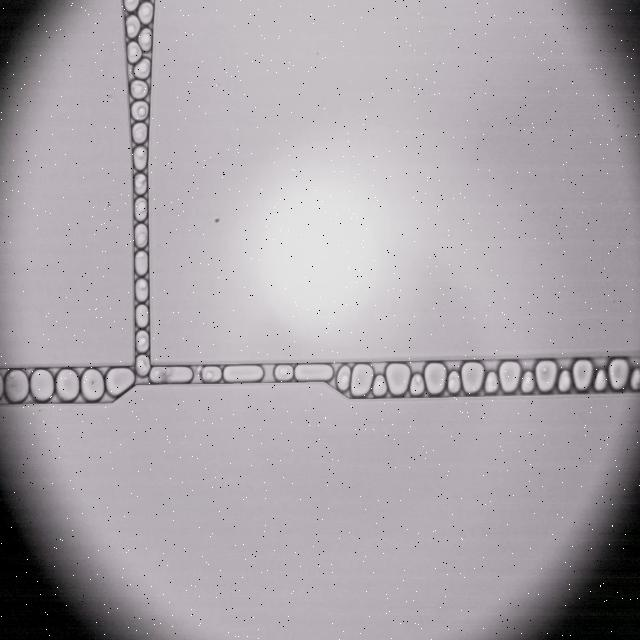L: (336, 366, 350, 392), (372, 374, 387, 397), (126, 15, 140, 38), (134, 278, 148, 301), (135, 304, 149, 327), (132, 122, 147, 143), (135, 355, 150, 376), (135, 251, 148, 275), (139, 2, 153, 24), (133, 147, 147, 169), (135, 330, 149, 352), (131, 101, 148, 119), (134, 59, 150, 78), (202, 366, 221, 382), (134, 198, 147, 221), (410, 374, 424, 395), (131, 81, 148, 98), (275, 365, 293, 381), (139, 29, 152, 51), (558, 370, 571, 392), (594, 369, 607, 391), (135, 224, 147, 247), (485, 372, 498, 393), (134, 174, 147, 194), (521, 372, 534, 392), (448, 372, 460, 393), (128, 42, 141, 61), (631, 369, 640, 391), (124, 0, 139, 11)
S: (106, 368, 134, 396), (386, 363, 410, 395), (5, 369, 28, 402), (461, 362, 484, 394), (31, 369, 53, 401), (57, 369, 79, 401), (81, 369, 103, 400), (351, 365, 373, 396), (424, 363, 446, 394), (499, 361, 521, 392), (572, 359, 593, 391), (224, 365, 263, 382), (608, 359, 629, 390), (295, 364, 333, 381), (536, 361, 557, 391), (151, 368, 192, 383), (0, 374, 3, 399)
